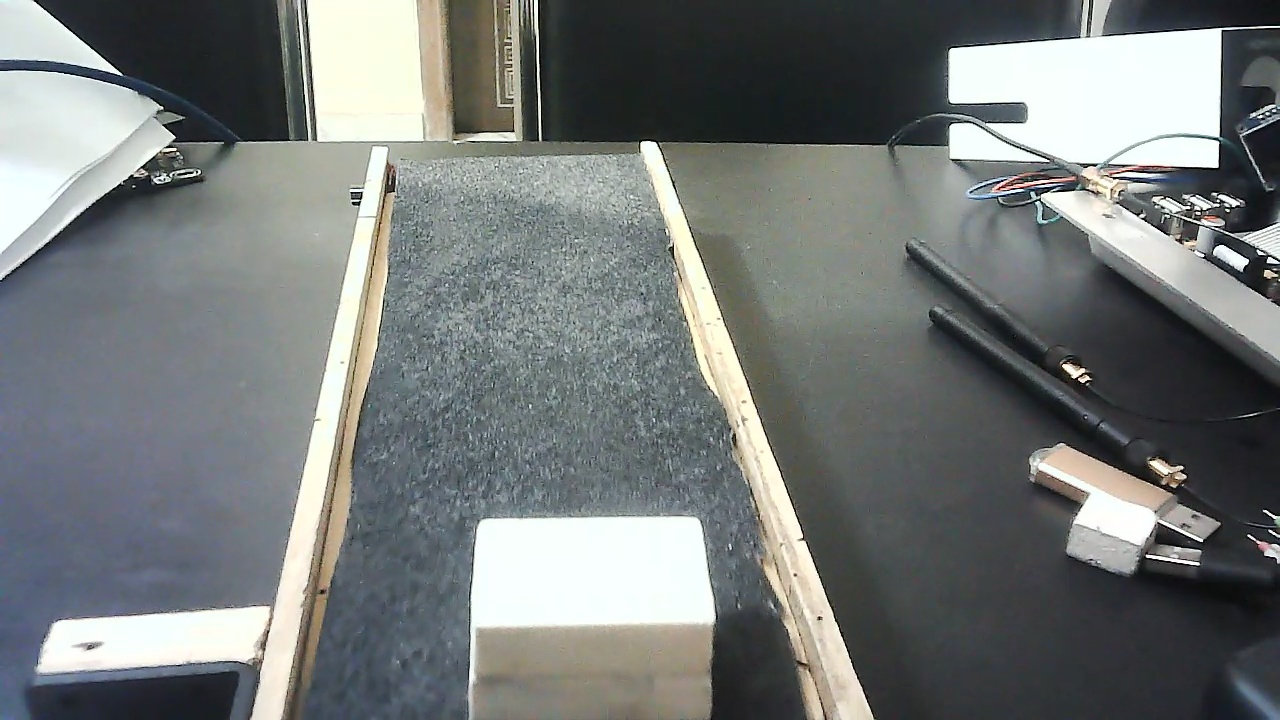BIG: (466, 471, 715, 720)
